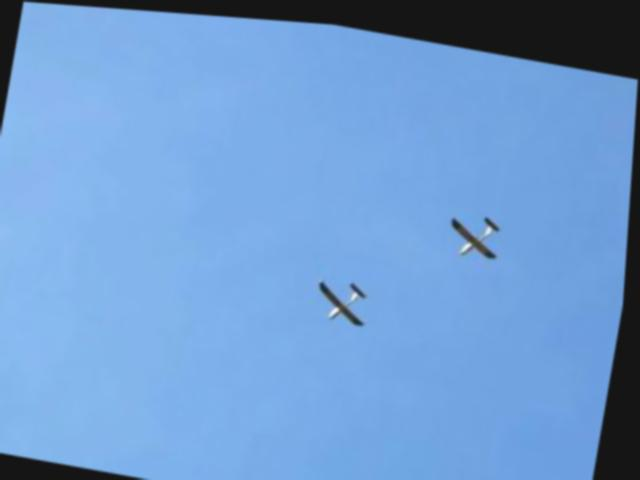uav: (445, 200, 509, 259), (316, 265, 377, 325)
